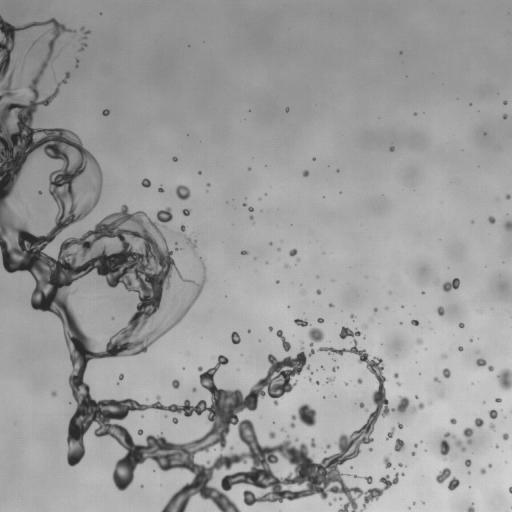droplet: (290, 404, 316, 427), (496, 368, 511, 389), (308, 328, 324, 347), (442, 278, 459, 291), (176, 185, 190, 200), (436, 468, 450, 483), (463, 428, 473, 444), (448, 477, 459, 490), (440, 440, 449, 455), (394, 438, 404, 451), (231, 331, 240, 344), (294, 319, 308, 326), (383, 456, 391, 468), (141, 178, 150, 187), (476, 358, 486, 366), (442, 368, 450, 378), (488, 410, 497, 418), (474, 418, 483, 426), (437, 306, 444, 315), (172, 379, 179, 388), (289, 249, 297, 256), (364, 476, 372, 483), (505, 221, 511, 230), (488, 216, 495, 223), (467, 504, 474, 511), (102, 109, 109, 115), (182, 209, 189, 215), (465, 459, 471, 466), (326, 377, 334, 382), (310, 439, 315, 447), (418, 403, 424, 409), (172, 417, 178, 423), (450, 418, 456, 424), (269, 432, 275, 438), (502, 433, 508, 439), (411, 320, 418, 325), (303, 170, 308, 176), (180, 225, 185, 231), (317, 318, 323, 323), (488, 365, 493, 371), (480, 468, 485, 474), (158, 187, 163, 192), (357, 378, 362, 383), (398, 423, 403, 428), (241, 250, 247, 254), (495, 398, 501, 402), (138, 429, 142, 435), (444, 432, 450, 436), (390, 146, 394, 151), (172, 157, 177, 161), (506, 194, 510, 199), (248, 207, 253, 211), (459, 323, 464, 327), (394, 373, 398, 378), (119, 374, 123, 379), (359, 403, 364, 407), (490, 423, 494, 428), (316, 290, 320, 294), (417, 339, 421, 343), (458, 346, 462, 350), (434, 377, 438, 381), (52, 392, 56, 396), (326, 444, 330, 448), (332, 367, 337, 370), (85, 31, 89, 34), (285, 107, 288, 111), (503, 114, 506, 118), (350, 315, 354, 318), (269, 326, 272, 330), (192, 388, 196, 391), (504, 101, 507, 104), (38, 191, 41, 194), (374, 308, 377, 311), (397, 382, 400, 385), (412, 452, 415, 455), (398, 463, 401, 466), (354, 475, 358, 477), (81, 27, 83, 30), (207, 183, 209, 186), (243, 203, 245, 206), (285, 264, 287, 267), (422, 291, 424, 294), (329, 304, 332, 306), (443, 354, 445, 357), (345, 382, 347, 385), (452, 436, 455, 438), (414, 444, 417, 446), (313, 158, 315, 160), (250, 216, 252, 218), (276, 280, 278, 282), (247, 330, 249, 332), (309, 378, 311, 380), (413, 408, 415, 410), (496, 445, 498, 447), (369, 448, 371, 450), (333, 498, 335, 500)
ligament: (0, 16, 409, 511), (276, 330, 290, 351), (185, 236, 196, 249), (455, 440, 465, 451), (386, 427, 394, 439), (80, 43, 85, 50), (509, 486, 511, 493)
